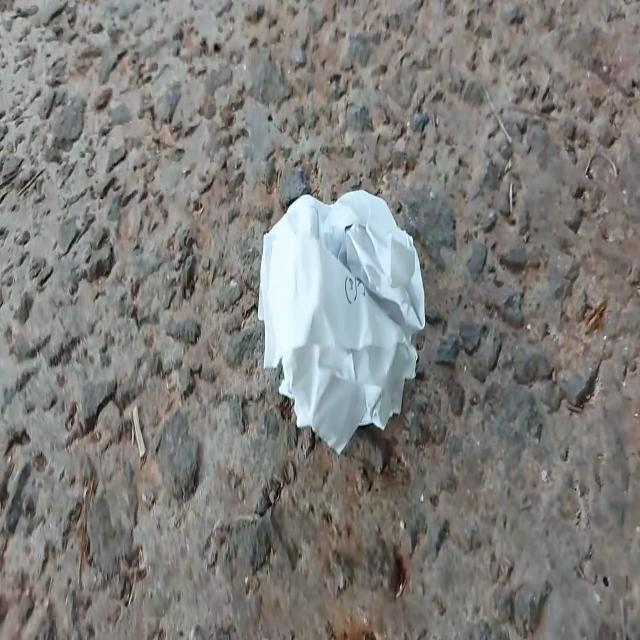Paper: (243, 159, 453, 470)
